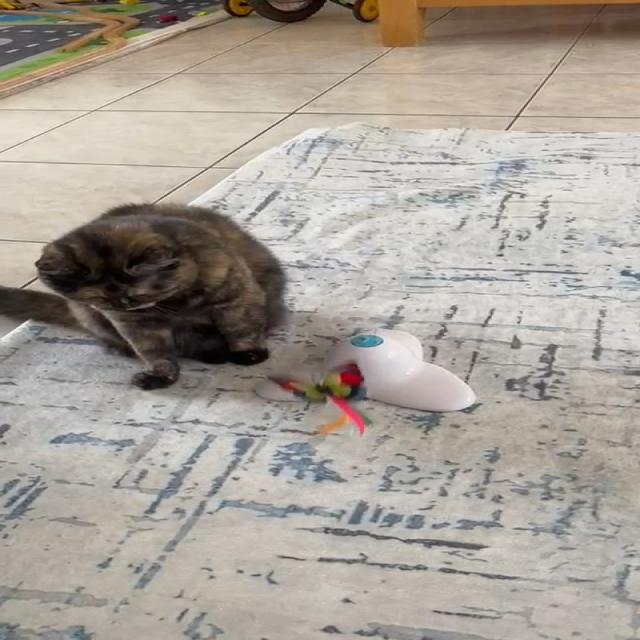authorized: (33, 201, 290, 366)
